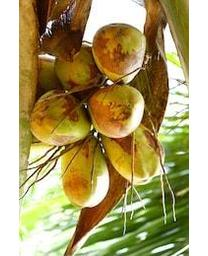coconut: (56, 138, 108, 209), (101, 125, 163, 183), (30, 86, 91, 143), (91, 22, 146, 85), (92, 84, 146, 137), (54, 34, 101, 89)
